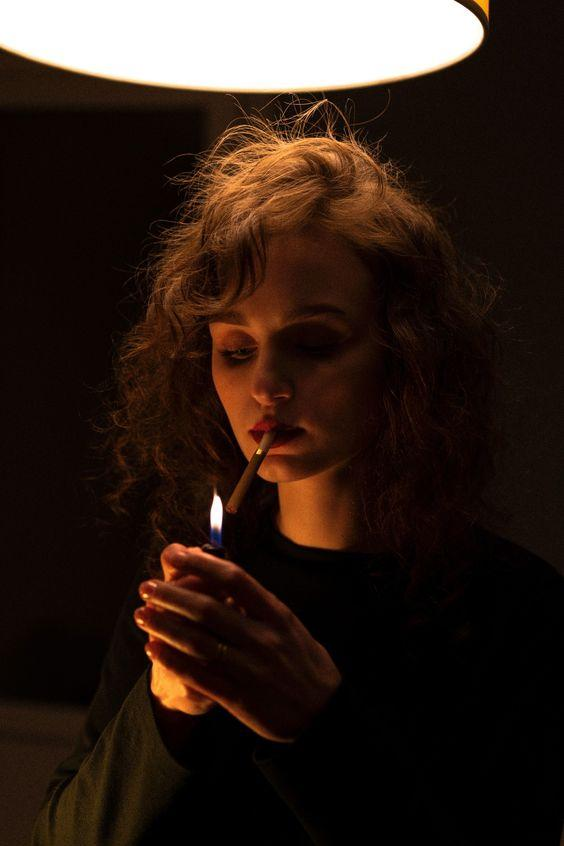cigarette: (224, 431, 277, 514)
